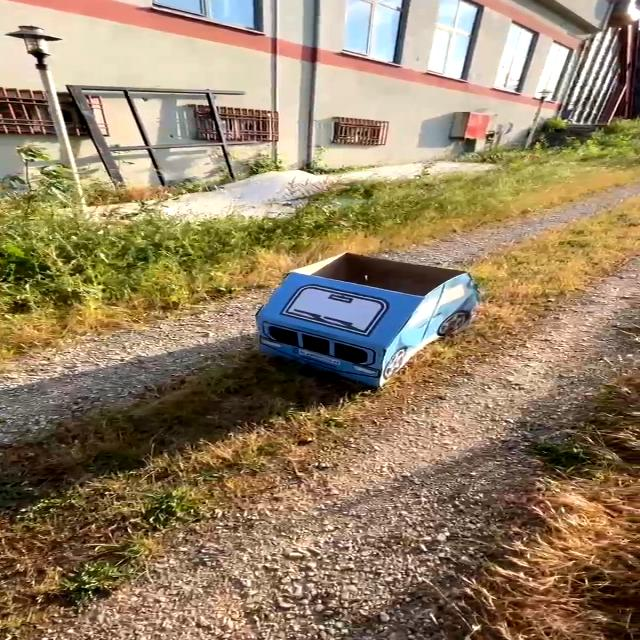blue_car: (185, 228, 523, 424)
